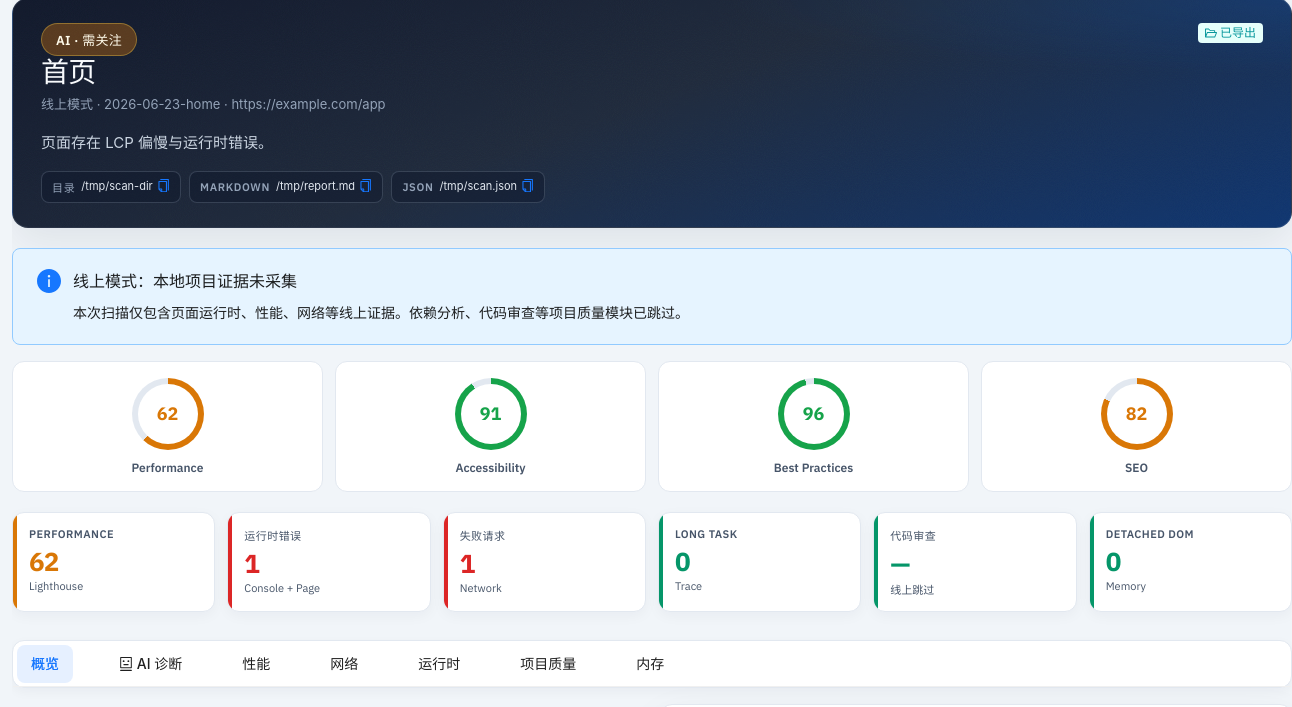
it: ScanResultView › displays scan mode and skipped local evidence in online results
The image size is (1292, 707).
Check: the text "线上模式：本地项目证据未采集" is shown, box [73,271,297,291]
Click the tab "项目质量": coordinates (548, 664) [520,653,576,675]
(page scrolled)
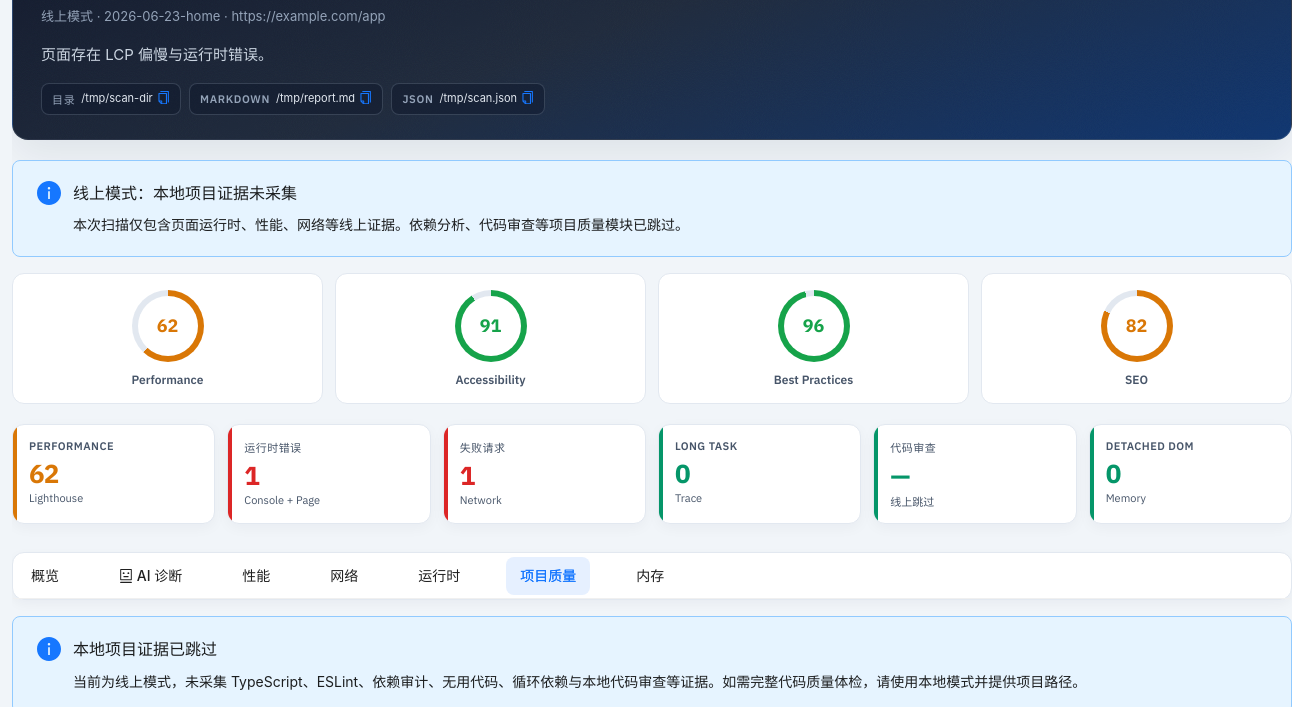
Check: the text "本地项目证据已跳过" is shown, box [73,639,217,659]
